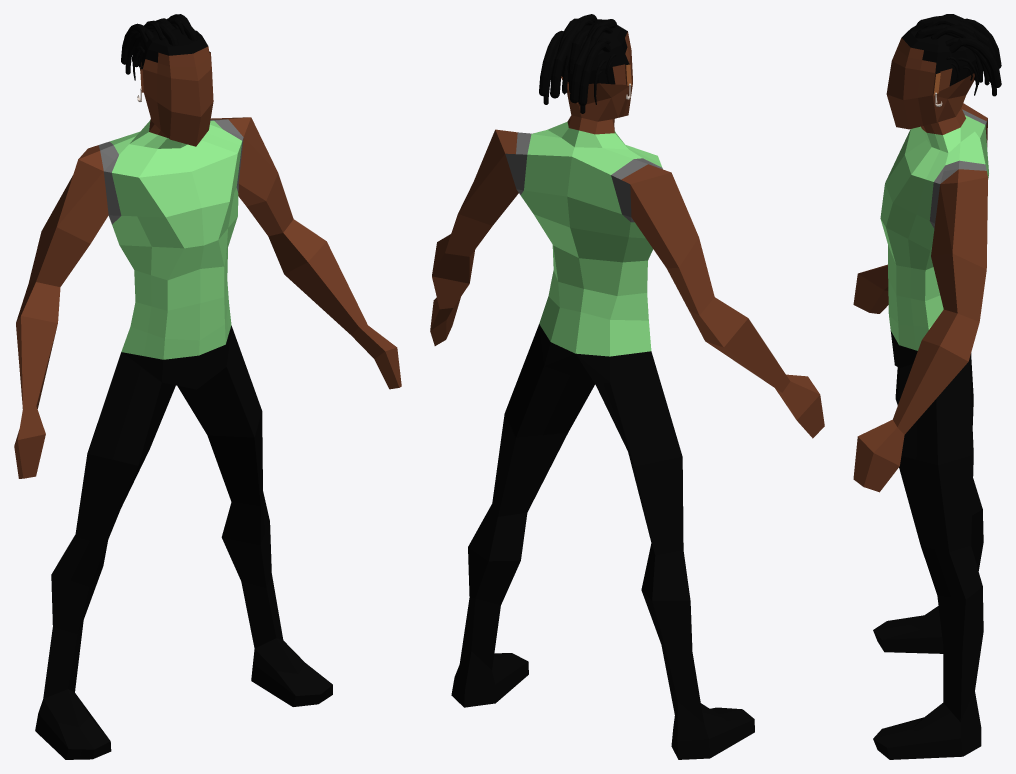
The model's file is Agnes.fbx.
3 views of the same model, side by side, from view 1: azimuth 30°, elevation 25°; view 2: azimuth 150°, elevation 25°; view 3: azimuth 270°, elevation 25° (orthographic). The views are drawn at different scales.
Visible parts, largest first — view 1: Cube.001; view 2: Cube.001; view 3: Cube.001.
Boxes of the visible parts, x1=… form: Cube.001: x1=14, y1=14, x2=401, y2=759; Cube.001: x1=430, y1=14, x2=824, y2=759; Cube.001: x1=853, y1=14, x2=1001, y2=759.
Size of the model in its own units: 336 by 581 by 115.
